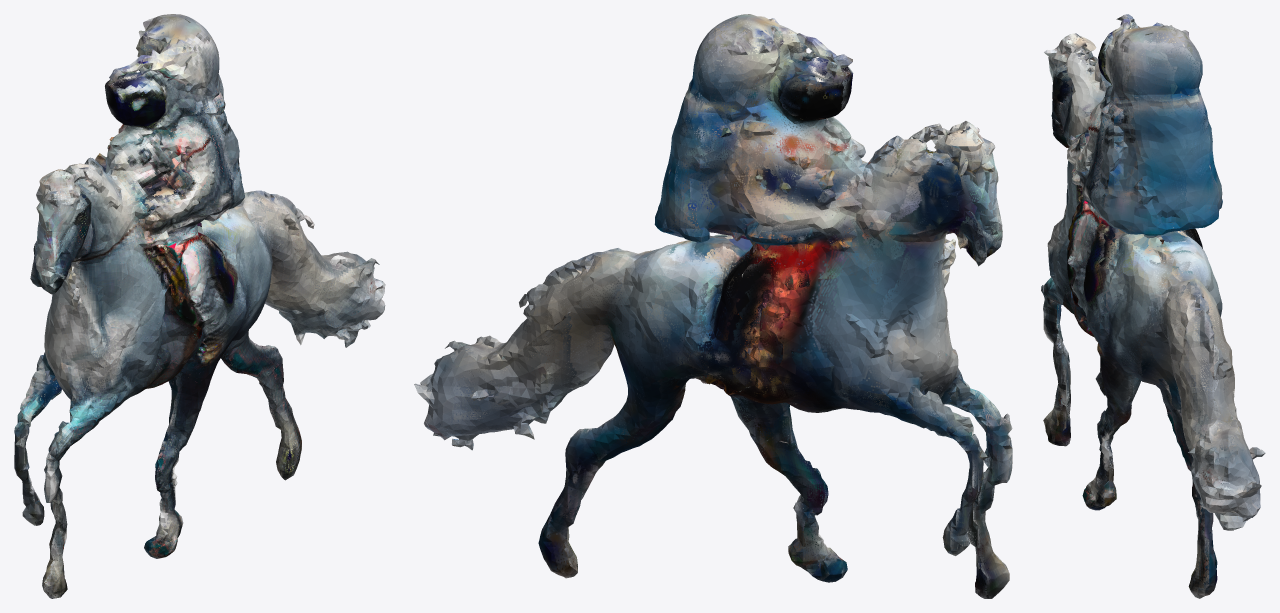
File: astronaut_005.glb
The picture shows the model from 3 angles, left to right: view 1: azimuth 30°, elevation 25°; view 2: azimuth 150°, elevation 25°; view 3: azimuth 270°, elevation 25°; orthographic projection. The views are drawn at different scales.
Bounding box in the file's own units: 1.24 × 1.39 × 0.5594.
Materials: 1 (1 with a texture image).
